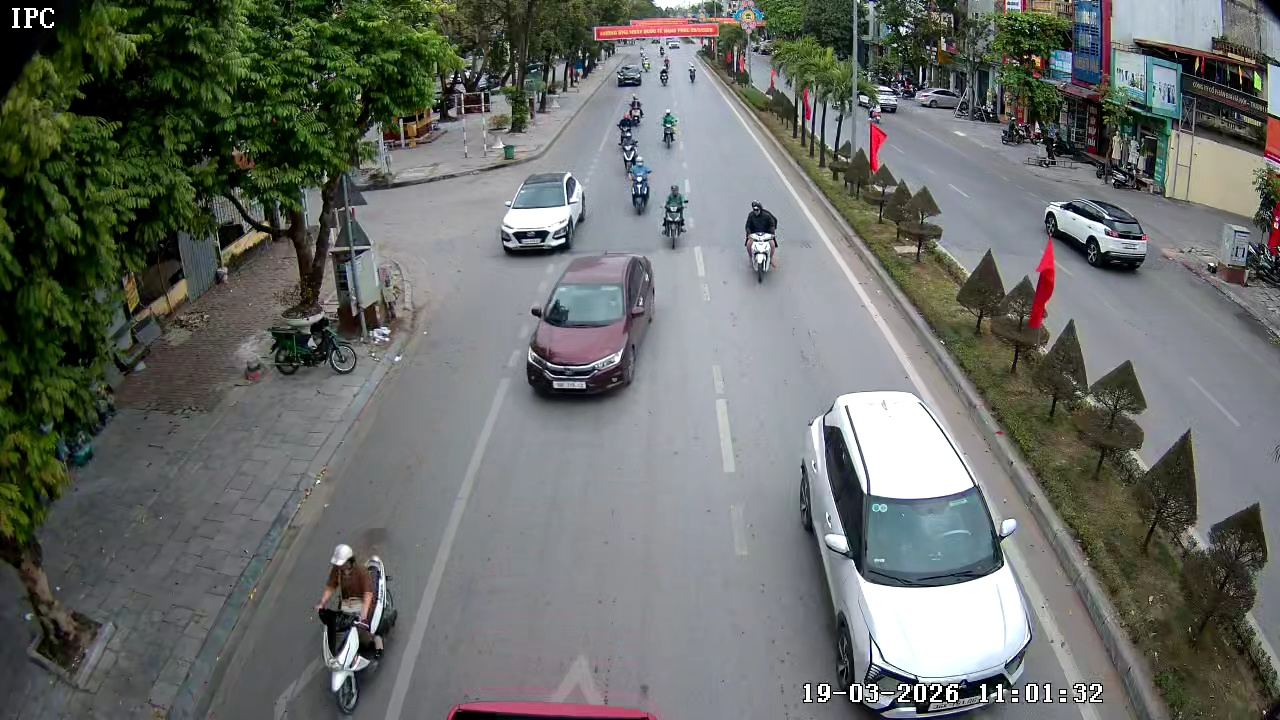bike: (312, 542, 395, 716)
car: (802, 388, 1032, 714), (525, 253, 657, 400), (1043, 195, 1148, 271), (499, 170, 591, 255), (615, 59, 646, 90)
exception: (621, 132, 643, 172)
motorbike: (312, 543, 396, 716), (742, 200, 780, 283), (659, 182, 691, 250), (627, 151, 654, 216), (658, 104, 685, 153), (612, 111, 639, 150), (625, 91, 647, 126), (659, 65, 671, 87), (687, 63, 699, 84), (660, 56, 674, 71)
